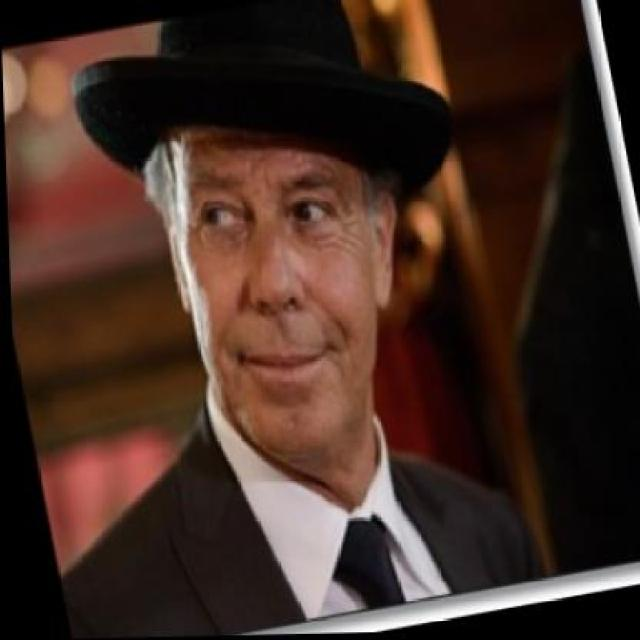hat: (57, 0, 472, 274)
